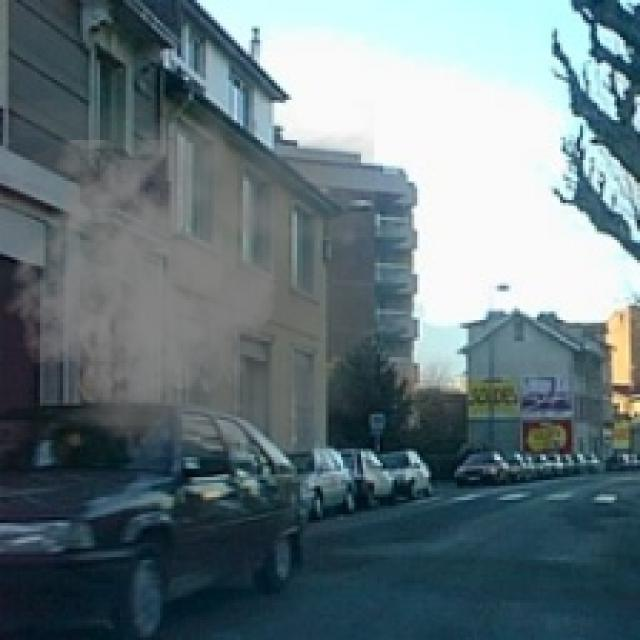Smoke: (2, 100, 374, 463)
